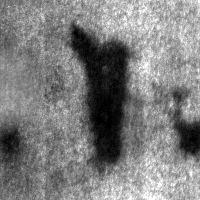patches: (67, 20, 130, 170), (86, 88, 154, 156), (0, 45, 43, 127), (176, 116, 200, 157), (1, 124, 23, 153)
